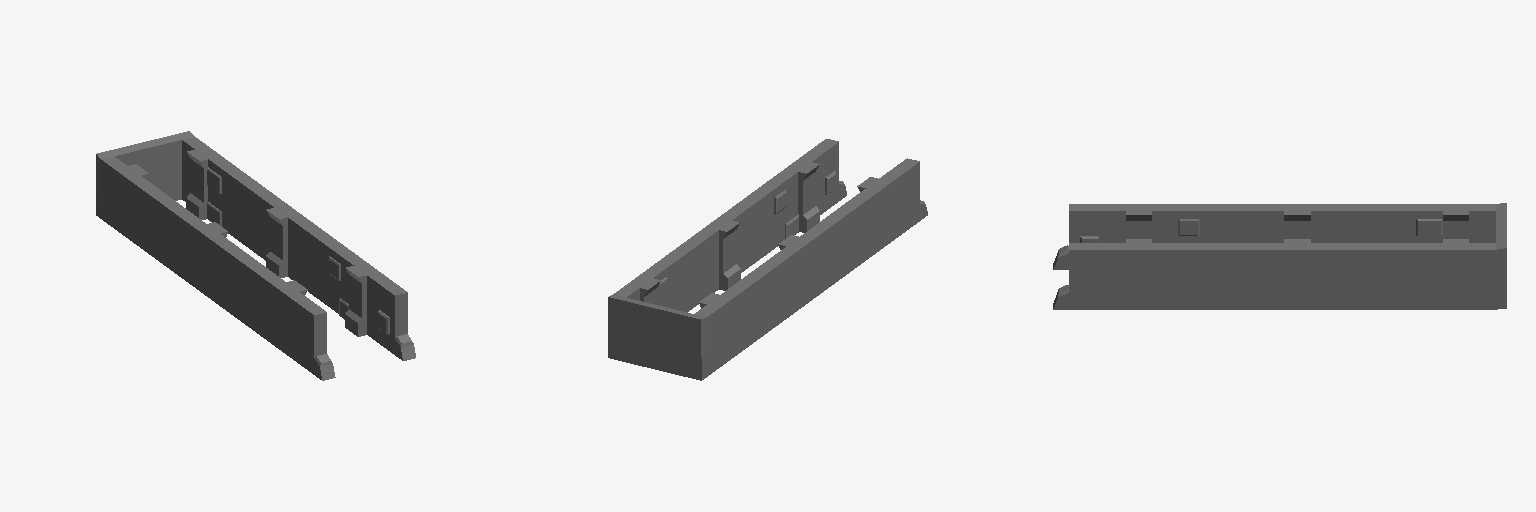
File: Vivienda2.obj
3 views of the same model, side by side, from view 1: azimuth 30°, elevation 25°; view 2: azimuth 150°, elevation 25°; view 3: azimuth 270°, elevation 25° (orthographic).
Parts seen in each view (by area): view 1: pCube8; view 2: pCube8; view 3: pCube8.
Part boxes in pixels (x1,y1,x2,y2): pCube8: (96, 131, 415, 380); pCube8: (608, 139, 927, 380); pCube8: (1053, 203, 1506, 309).
Size of the model in its own units: 41.56 by 25.9 by 174.